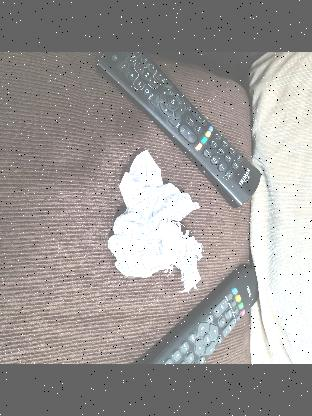Others: (115, 154, 199, 298)
